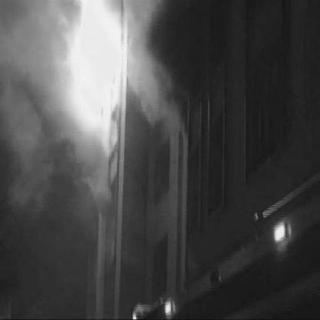Fire: (62, 5, 134, 124)
